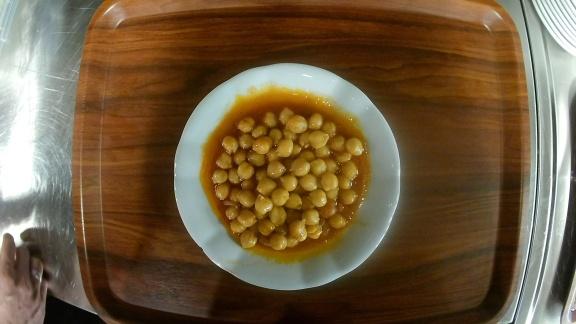sulunohut: (170, 63, 401, 294)
